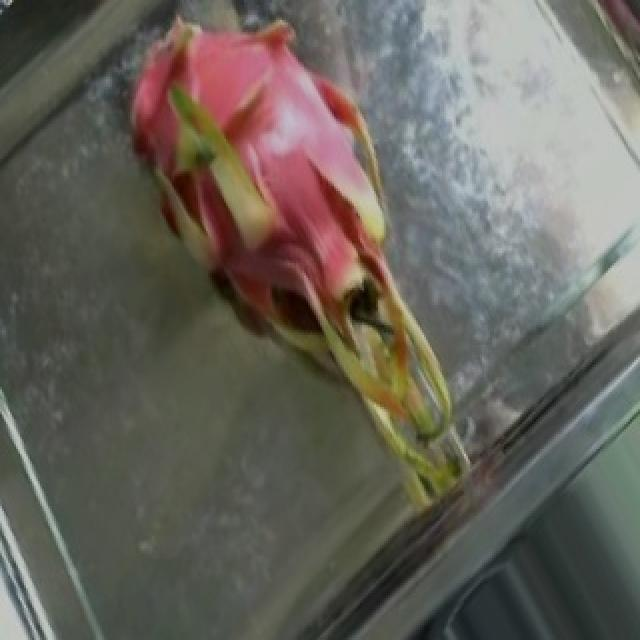fruit: (52, 3, 446, 434)
